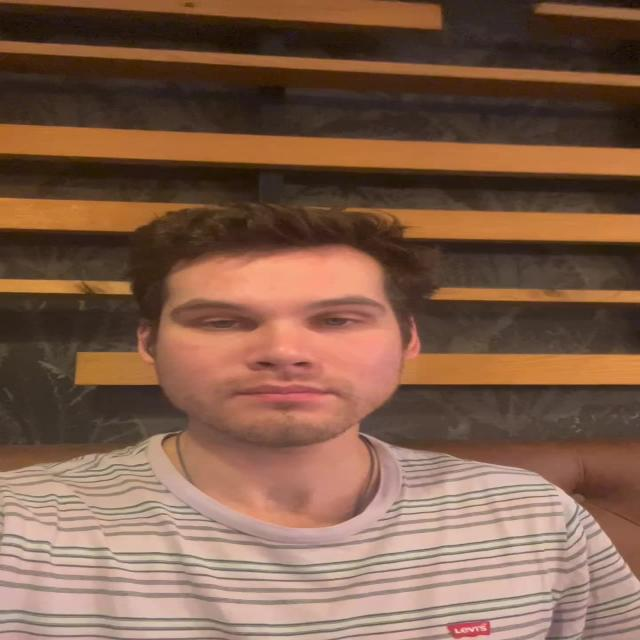earlobe: (401, 311, 423, 363), (137, 318, 157, 364)
